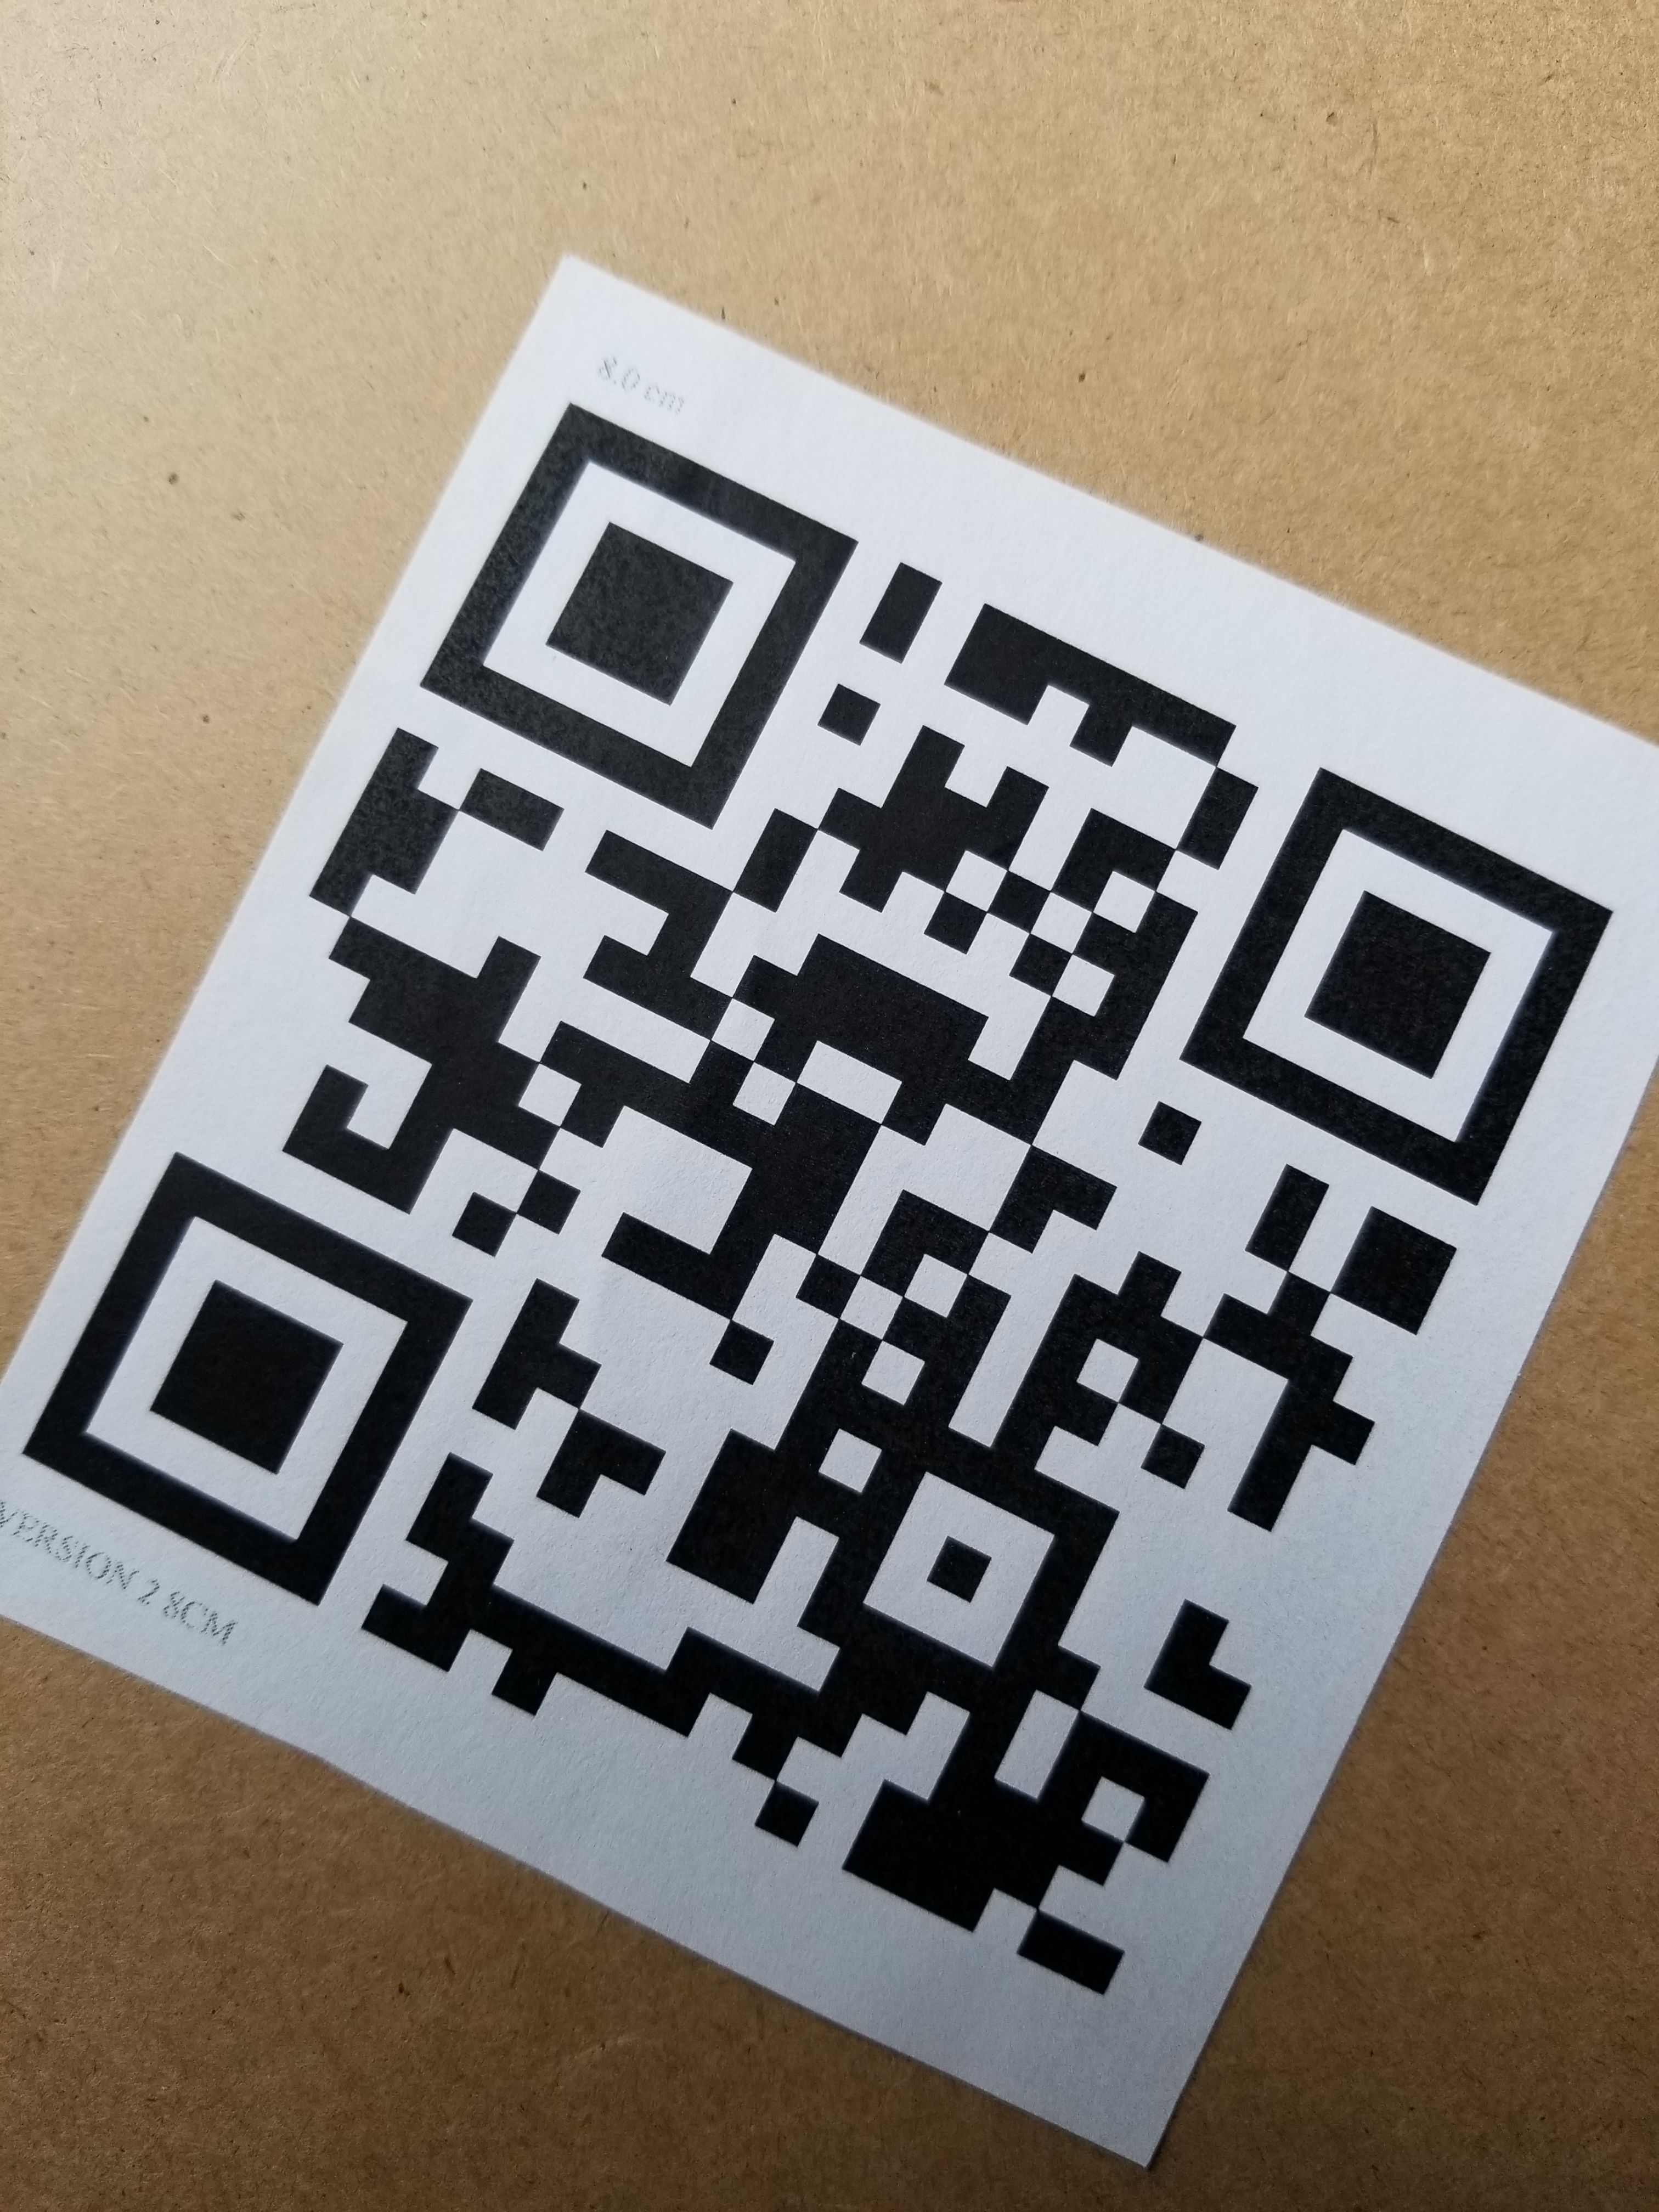QR_CODE: (7, 340, 1633, 2015)
